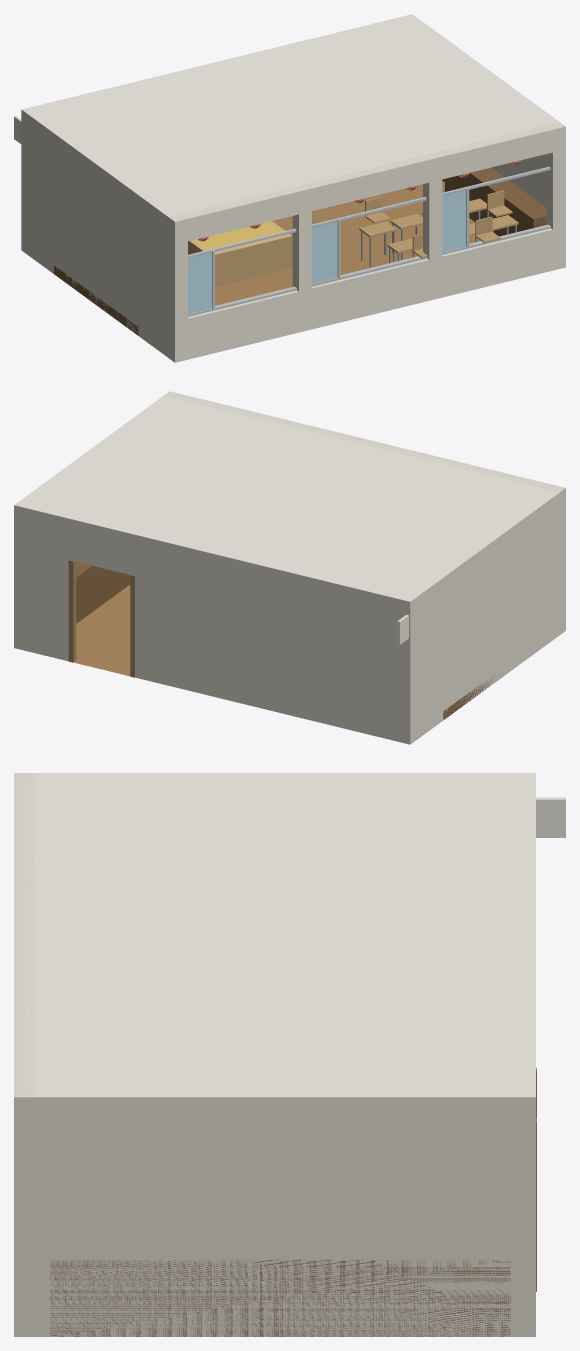
The model's file is classroom.glb.
The picture shows the model from 3 angles, top to bottom: view 1: azimuth 30°, elevation 25°; view 2: azimuth 150°, elevation 25°; view 3: azimuth 270°, elevation 25°; orthographic projection. The views are drawn at different scales.
Parts seen in each view (by area): view 1: room, desks, sign0, sign1; view 2: room; view 3: room.
Part boxes in pixels (<box>): room: <box>14,14,565,362</box>; desks: <box>359,181,518,267</box>; sign0: <box>188,221,292,287</box>; sign1: <box>193,221,288,252</box>; room: <box>14,391,565,744</box>; room: <box>14,773,565,1336</box>.
Size of the model in its own units: 9 by 3.1 by 6.47.
